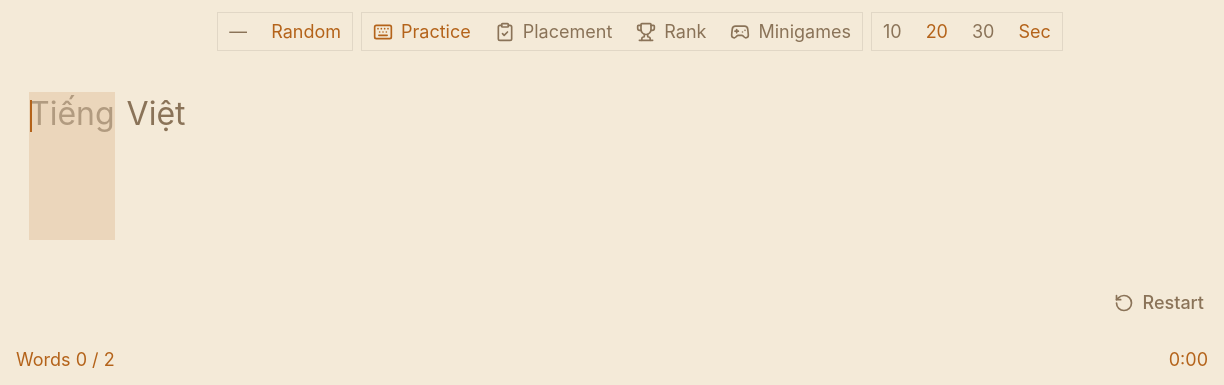
Test case: TypingPage › shows an error in the name menu when the passages cannot be loaded
The image size is (1224, 385).
Click the button named "Choose passage" at [238, 32], box [217, 12, 259, 51]
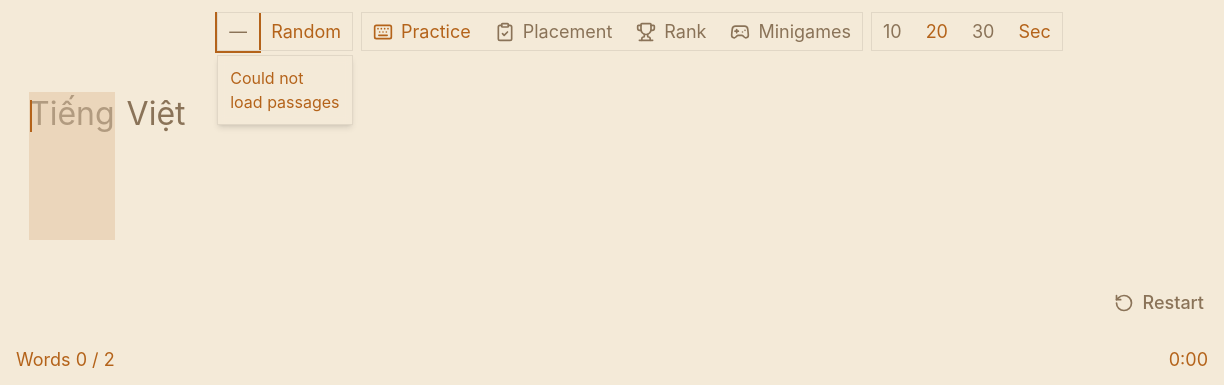
Expected: the text "Could not load passages" is shown, [222, 60, 348, 120]
